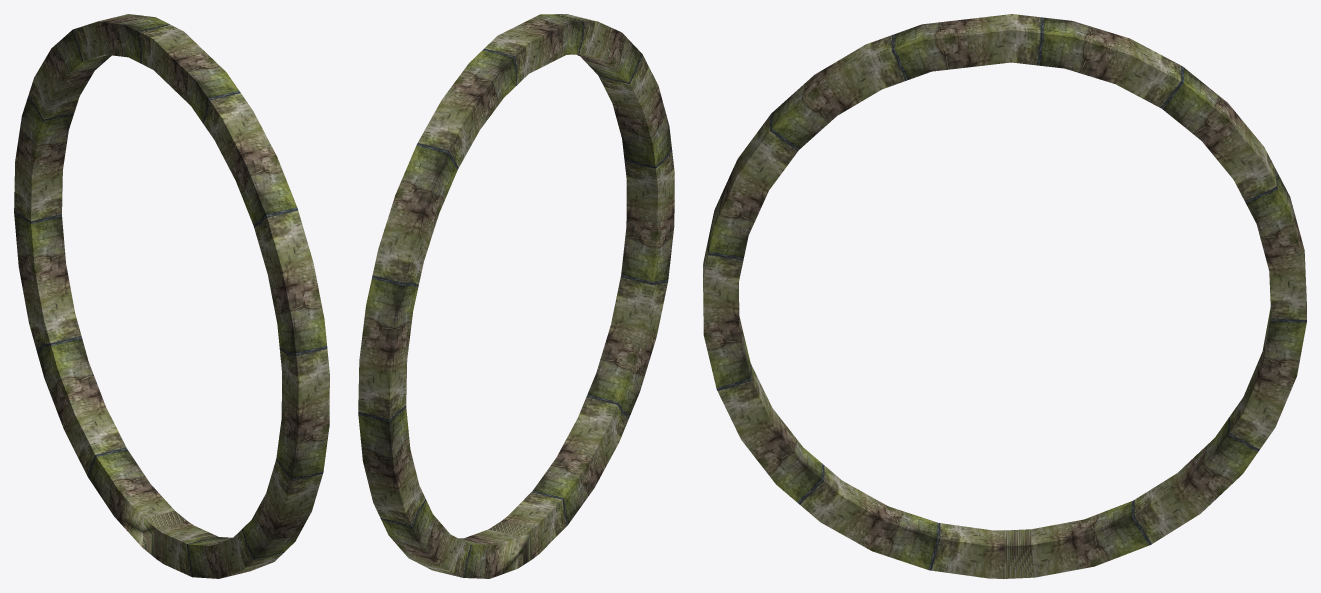
File: ring_colider.fbx
The picture shows the model from 3 angles, left to right: view 1: azimuth 30°, elevation 25°; view 2: azimuth 150°, elevation 25°; view 3: azimuth 270°, elevation 25°; orthographic projection. The views are drawn at different scales.
Parts seen in each view (by area): view 1: ring_.001; view 2: ring_.001; view 3: ring_.001.
Boxes of the visible parts, <box> form: ring_.001: <box>14,14,329,578</box>; ring_.001: <box>358,14,674,578</box>; ring_.001: <box>703,14,1306,578</box>.
Bounding box in the file's own units: 35.75 × 569 × 568.
